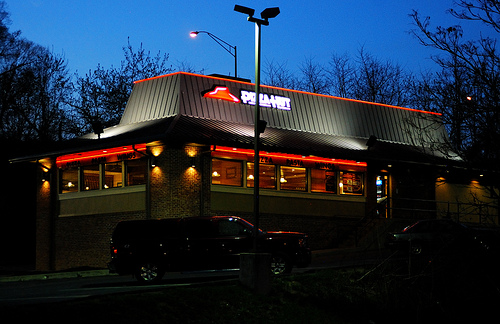car: (102, 211, 314, 287)
